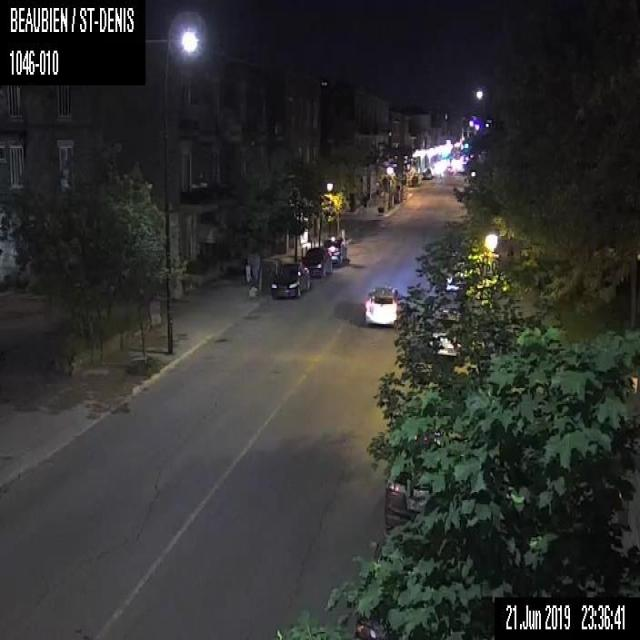vehicle: (382, 415, 464, 544), (353, 539, 411, 639), (426, 296, 469, 360), (269, 260, 309, 298), (440, 247, 471, 291), (364, 286, 398, 326), (302, 247, 332, 277), (322, 234, 346, 266)
